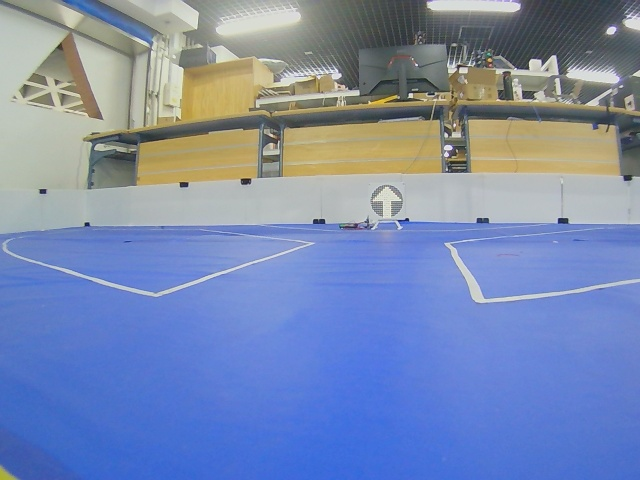straight_yellow: (369, 182, 404, 221)
